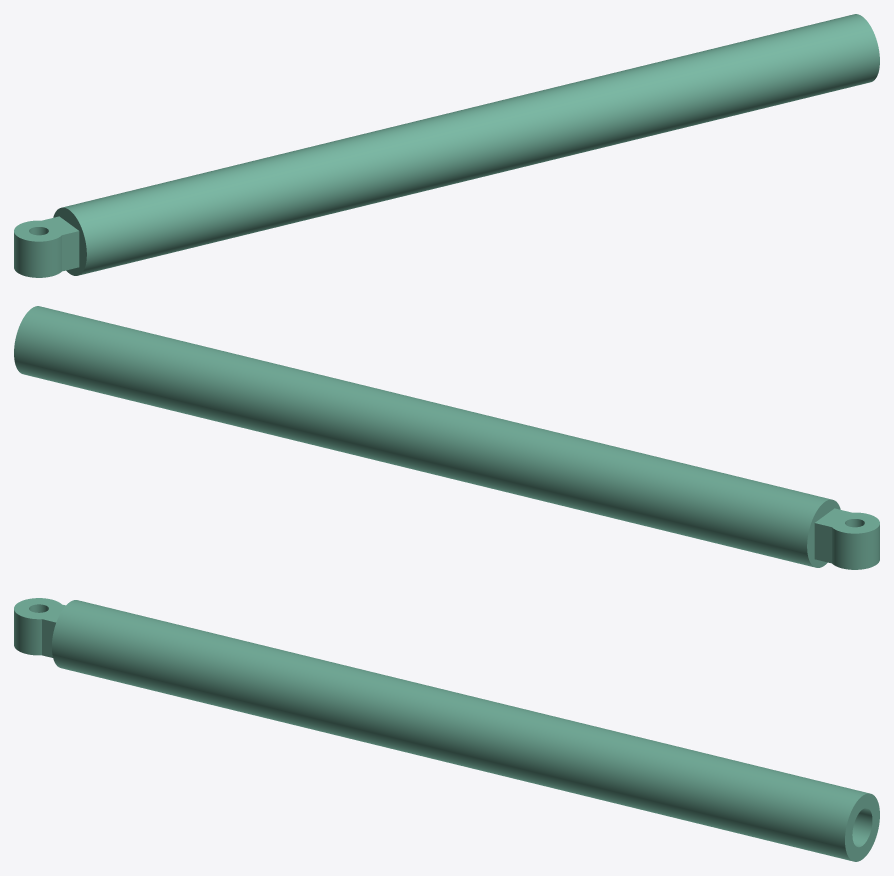
The model's file is esp2023_p27_actuator_body.glb.
3 views of the same model, one above another, from view 1: azimuth 30°, elevation 25°; view 2: azimuth 150°, elevation 25°; view 3: azimuth 330°, elevation 25° (orthographic).
Parts seen in each view (by area): view 1: actuator body; view 2: actuator body; view 3: actuator body.
Part boxes in pixels (x1,y1,x2,y2): actuator body: (14,14,879,277); actuator body: (14,306,879,569); actuator body: (14,598,879,861).
Size of the model in its own units: 1950 by 140 by 140.
